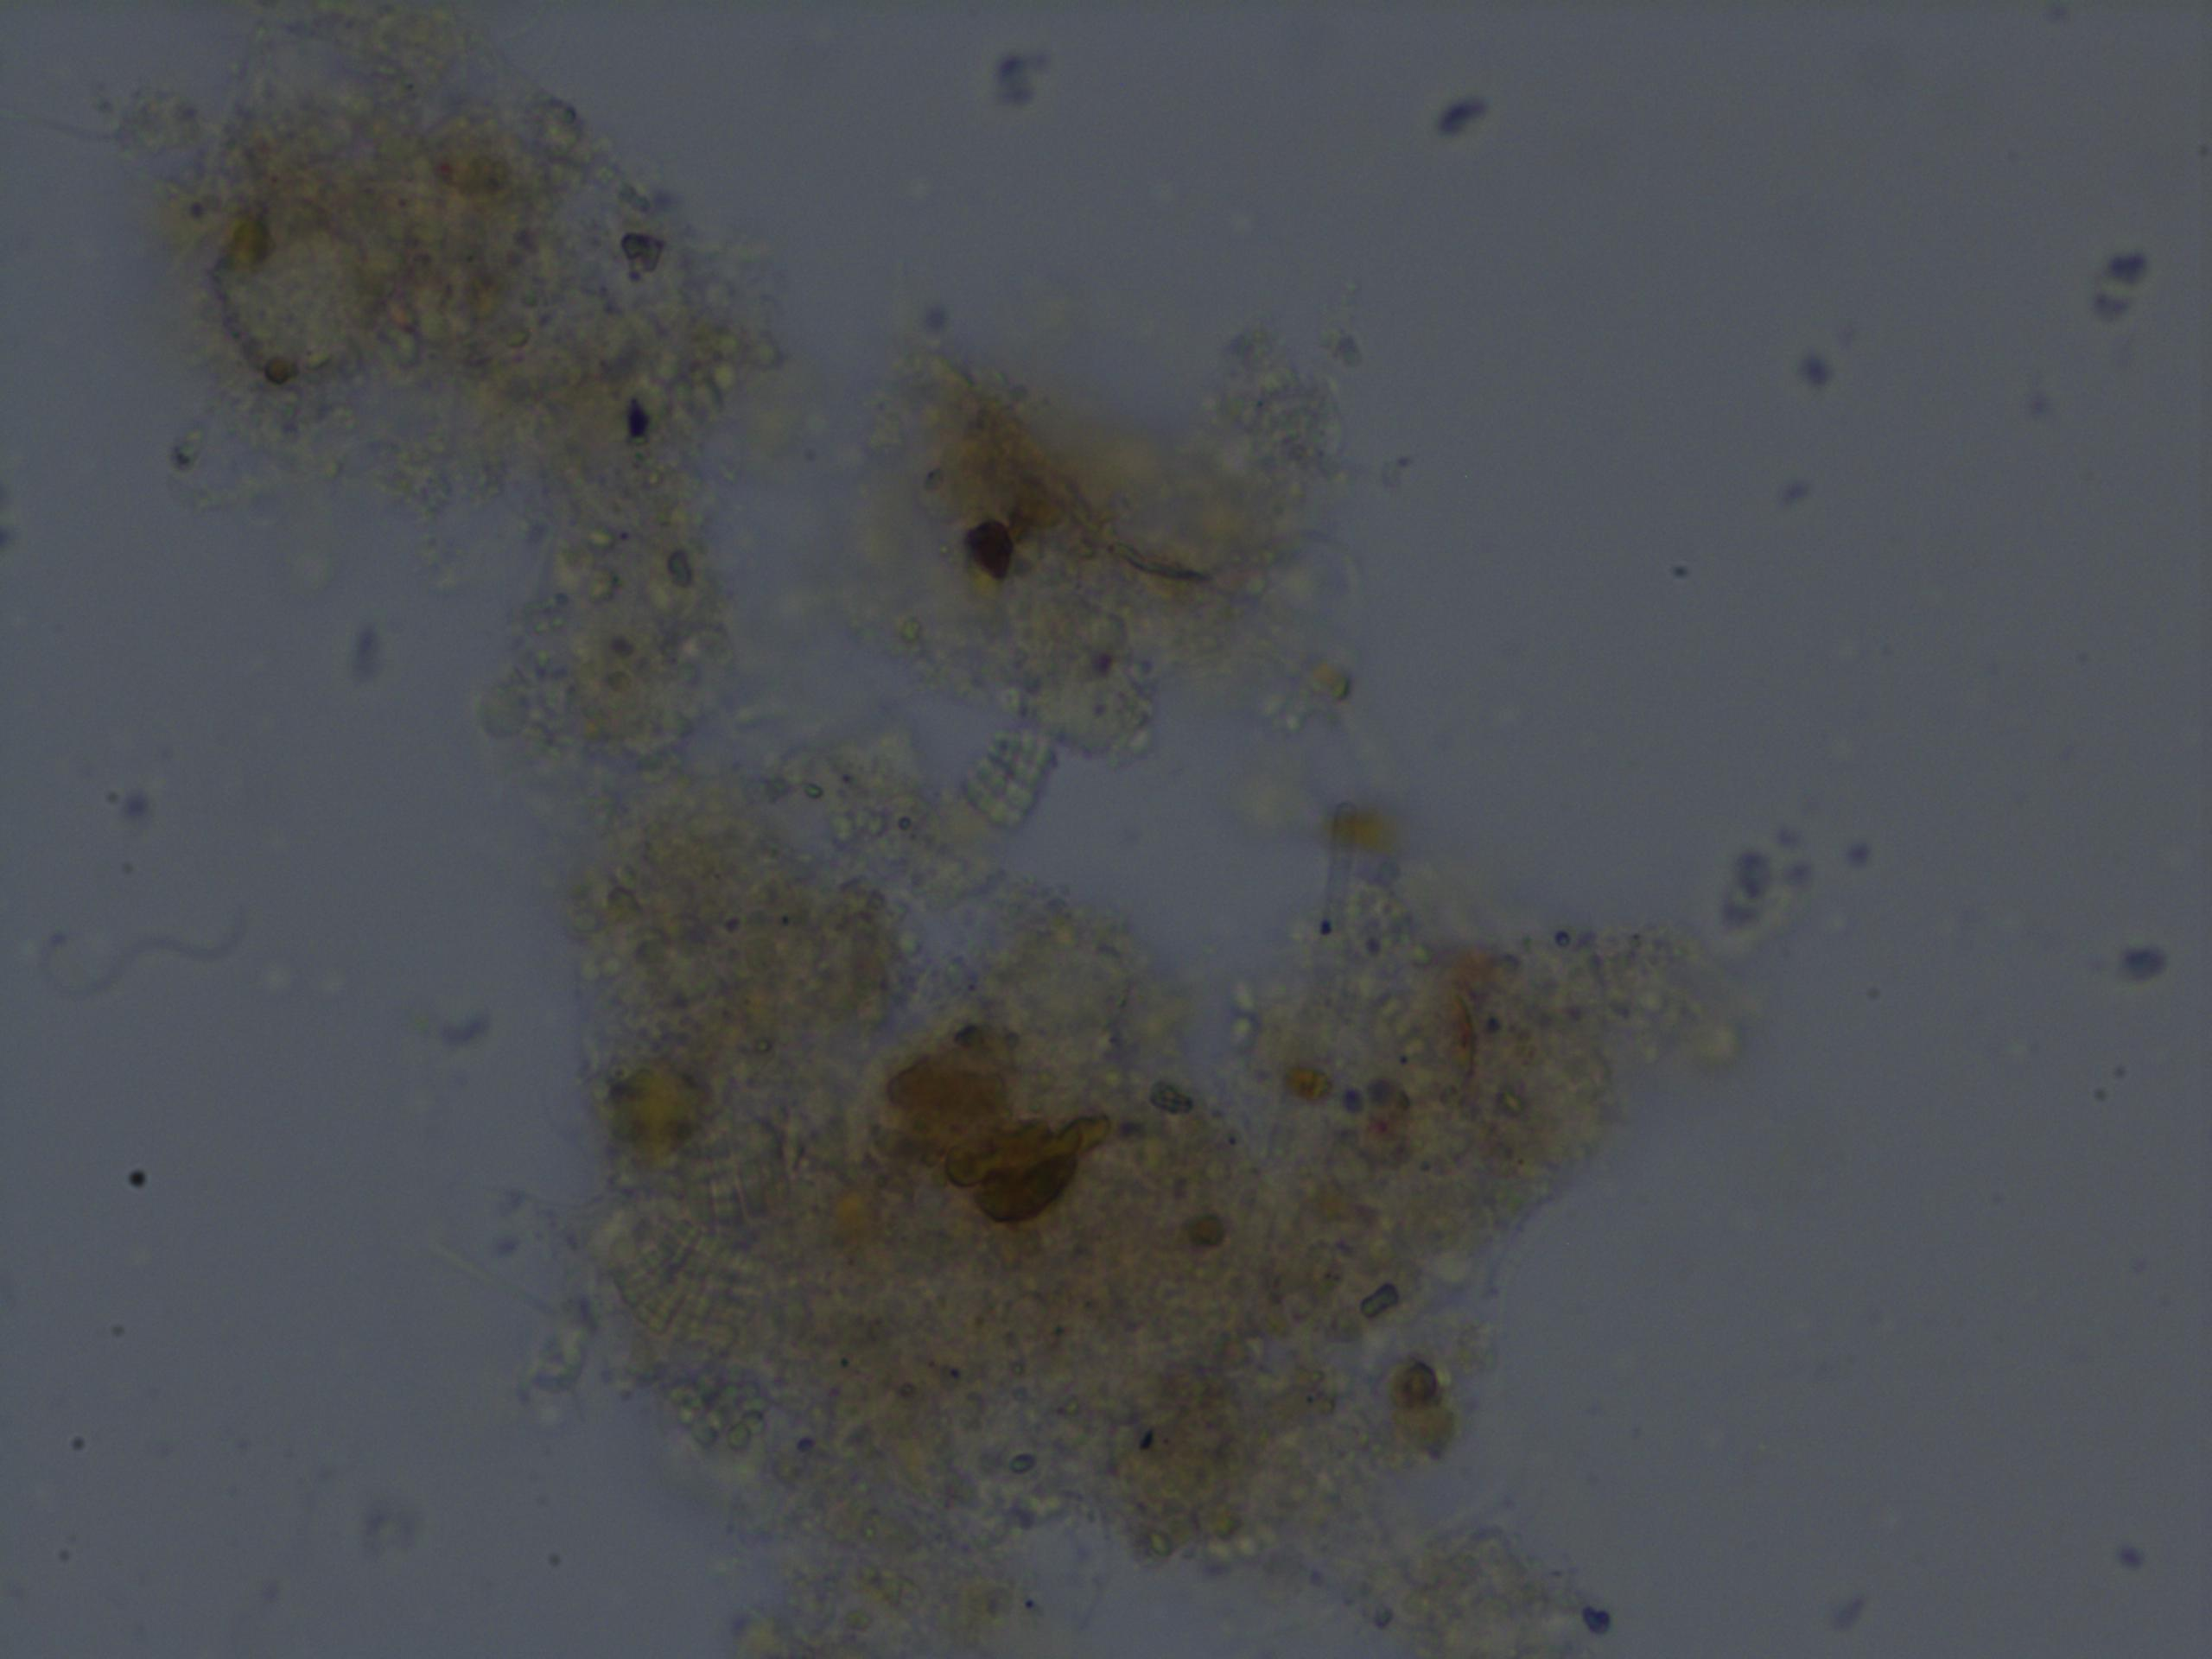open_floc: (134, 0, 1770, 1659)
